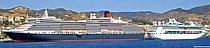Ship: (3, 6, 150, 43), (144, 18, 210, 45)
